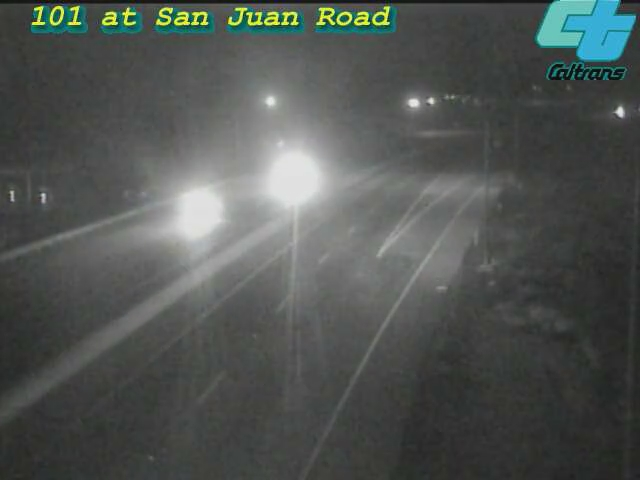vehicle: (158, 167, 238, 247), (252, 138, 332, 218), (595, 87, 640, 137)
